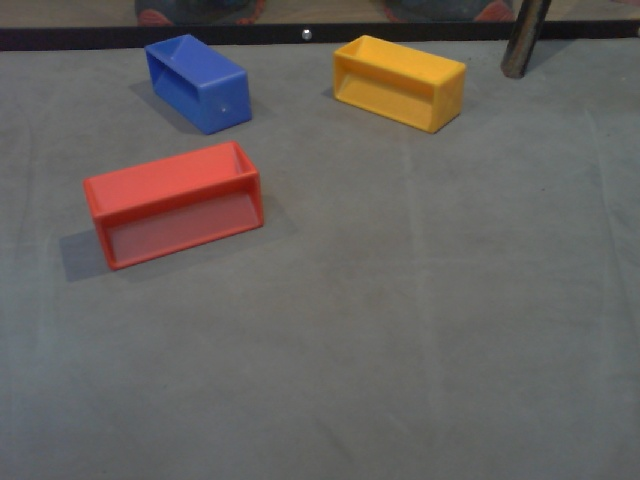BlueSample: (139, 31, 257, 141)
RedSample: (77, 142, 270, 276)
YellowSample: (330, 31, 468, 136)
